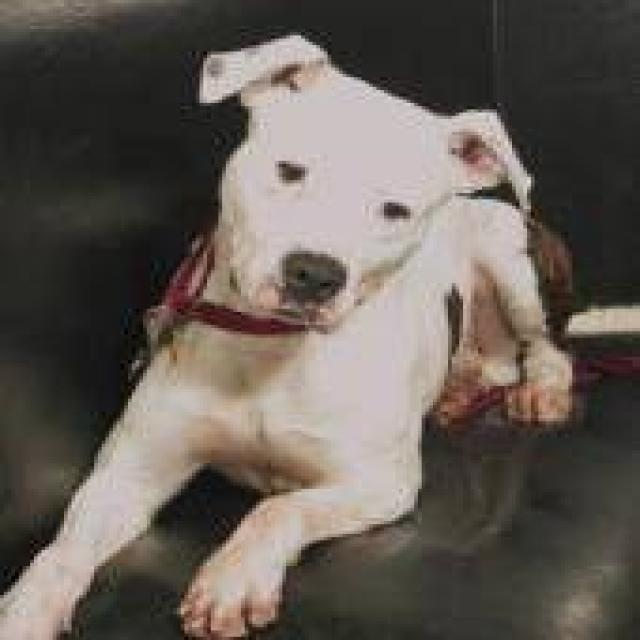dog: (0, 29, 576, 637)
